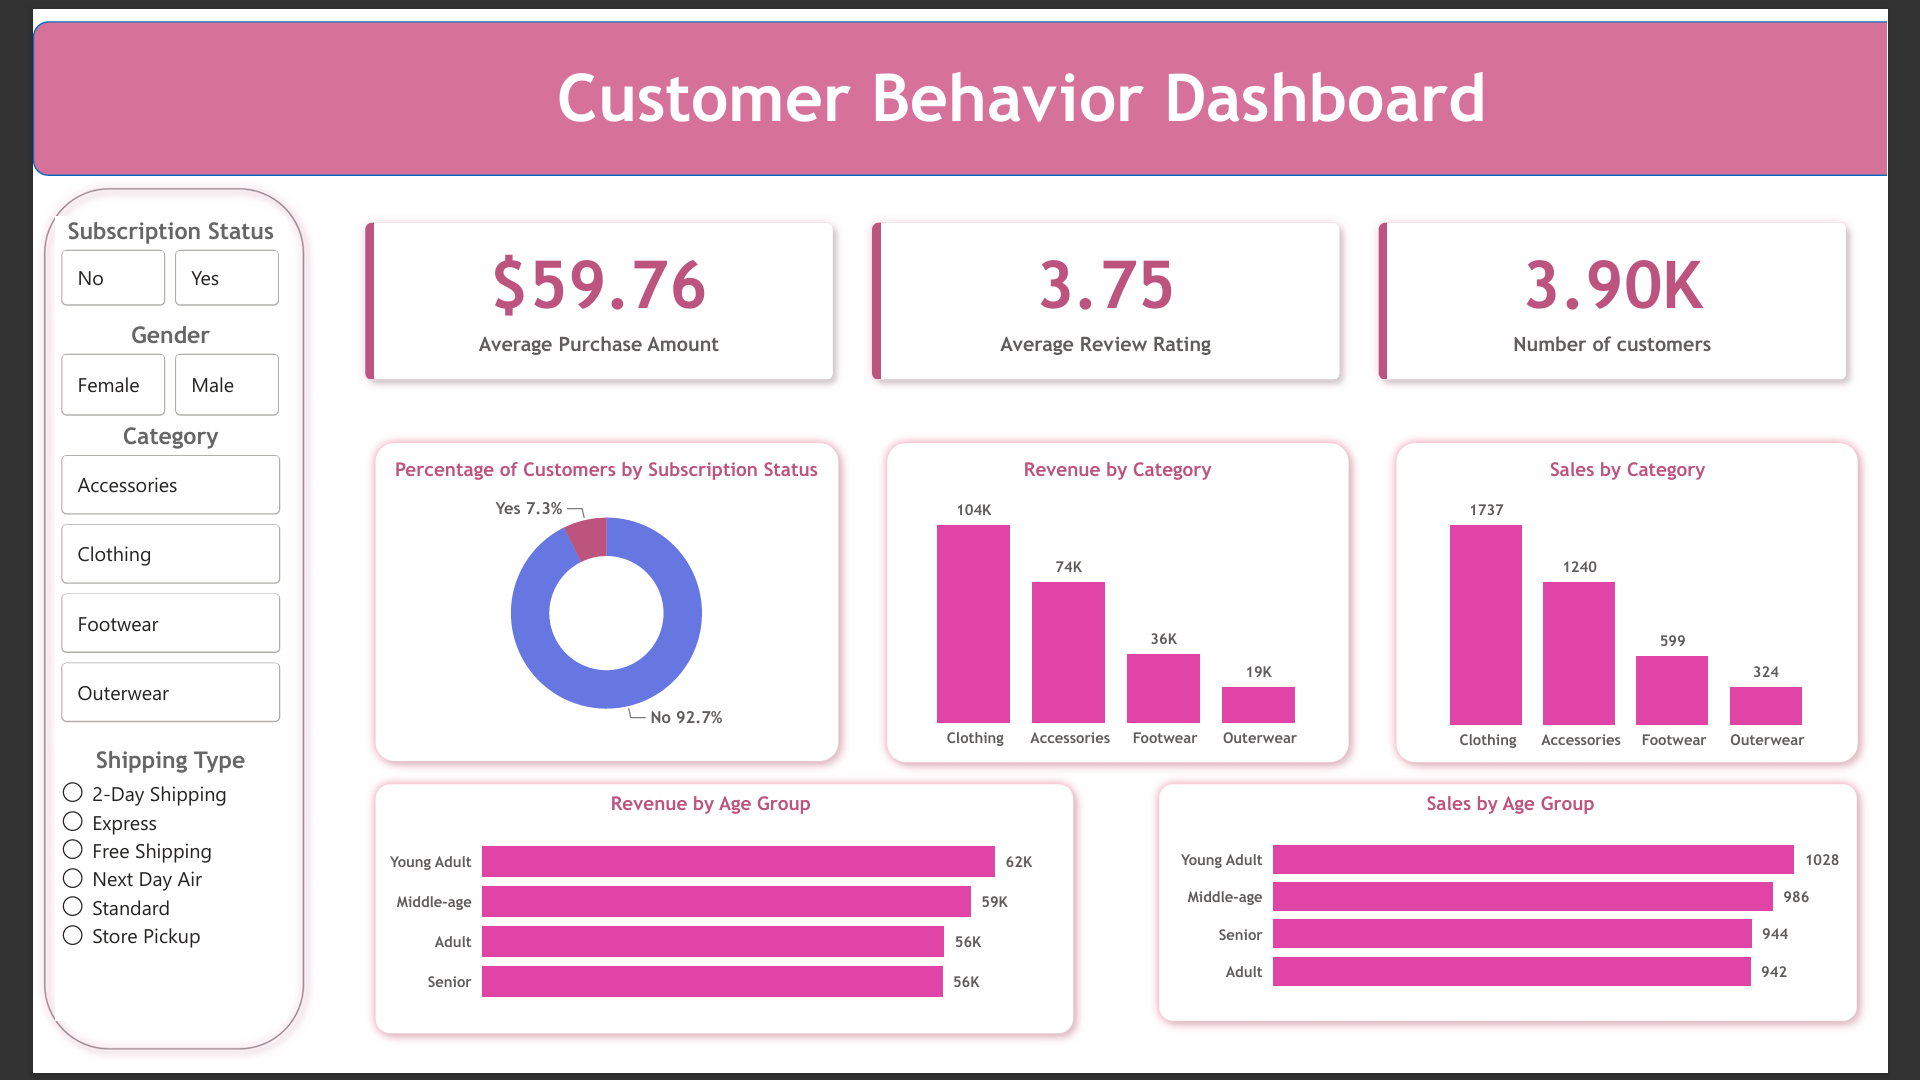

This screenshot's page, from the dashboard's own definition file:
{"tool":"powerbi","page":{"name":"Page 1","canvas":[1500,840],"ordinal":0},"visuals":[{"type":"cardVisual","fields":{"Data":["Measure Table.Average Purchase Amount","Measure Table.Average Review Rating","Measure Table.Number of customers"]},"box":[251.4,145.7,1232.9,161.4],"z":0},{"type":"shape","box":[0,0,1600,125],"z":1000},{"type":"shape","box":[267.1,331.4,392.9,275.7],"z":2000},{"type":"donutChart","title":"Percentage of Customers by Subscription Status","fields":{"Category":["customer.subscription_status"],"Y":["Sum(customer.customer_id)"]},"box":[283.3,353.3,360,231.7],"z":3000},{"type":"shape","box":[681.2,331.7,391.7,276.7],"z":4000},{"type":"shape","box":[1093.3,331.7,391.7,276.7],"z":5000},{"type":"columnChart","title":"Revenue by Category","fields":{"Category":["customer.category"],"Y":["Sum(customer.purchase_amount)"]},"box":[695,353.3,363.3,241.7],"z":6000},{"type":"columnChart","title":"Sales by Category","fields":{"Category":["customer.category"],"Y":["CountNonNull(customer.customer_id)"]},"box":[1111.7,353.3,356.7,243.3],"z":7000},{"type":"shape","box":[0,125,228.3,715],"z":8000},{"type":"advancedSlicerVisual","title":"Subscription Status","fields":{"Values":["customer.subscription_status"]},"box":[18,158,187,77],"z":9000},{"type":"advancedSlicerVisual","title":"Gender","fields":{"Values":["customer.gender"]},"box":[18,242,187,82],"z":10000},{"type":"advancedSlicerVisual","title":"Category","fields":{"Values":["customer.category"]},"box":[18,324,187,249],"z":11000},{"type":"listSlicer","title":"Shipping Type","fields":{"Values":["customer.shipping_type"]},"box":[18.3,585,186.7,223.3],"z":12000},{"type":"shape","box":[267.1,608.6,582.9,220],"z":13000},{"type":"shape","box":[901.4,608.6,582.9,210],"z":14000},{"type":"barChart","title":"Revenue by Age Group","fields":{"Y":["Sum(customer.purchase_amount)"],"Category":["customer.age_group"]},"box":[282.9,624.3,532.9,184.3],"z":15000},{"type":"barChart","title":"Sales by Age Group","fields":{"Category":["customer.age_group"],"Y":["CountNonNull(customer.customer_id)"]},"box":[921.4,624.3,547.1,174.3],"z":16000}]}

Visuals, with their boxes in screenshot pixels (x1, y1, x2, y2), scaled from the page's 1500x840 canvas onto the 1920x1080 screenshot:
cardVisual - Measure Table.Average Purchase Amount x Measure Table.Average Review Rating: select_region(322, 187, 1900, 395)
shape: select_region(0, 0, 1919, 161)
shape: select_region(342, 426, 845, 781)
"Percentage of Customers by Subscription Status" donutChart: select_region(363, 454, 823, 752)
shape: select_region(872, 426, 1373, 782)
shape: select_region(1399, 426, 1901, 782)
"Revenue by Category" columnChart: select_region(890, 454, 1355, 765)
"Sales by Category" columnChart: select_region(1423, 454, 1880, 767)
shape: select_region(0, 161, 292, 1079)
"Subscription Status" advancedSlicerVisual: select_region(23, 203, 262, 302)
"Gender" advancedSlicerVisual: select_region(23, 311, 262, 417)
"Category" advancedSlicerVisual: select_region(23, 417, 262, 737)
"Shipping Type" listSlicer: select_region(23, 752, 262, 1039)
shape: select_region(342, 782, 1088, 1065)
shape: select_region(1154, 782, 1900, 1052)
"Revenue by Age Group" barChart: select_region(362, 803, 1044, 1040)
"Sales by Age Group" barChart: select_region(1179, 803, 1880, 1027)
